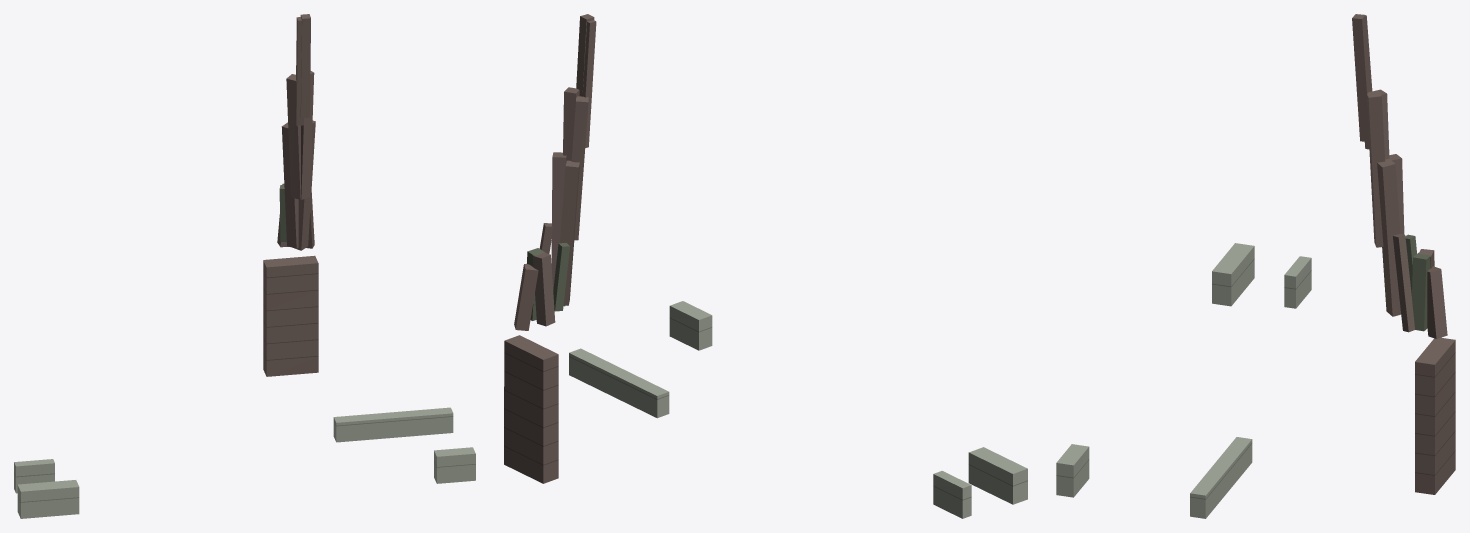
File: terminal-80---20_14.glb
3 renders of one model, left to right at view 1: azimuth 30°, elevation 25°; view 2: azimuth 150°, elevation 25°; view 3: azimuth 270°, elevation 25°, orthographic. The views are drawn at different scales.
Visible parts, largest first — view 1: measured-industrial; view 2: measured-industrial; view 3: measured-industrial.
Boxes of the visible parts, bbox=[...] form: measured-industrial: bbox=[14, 14, 475, 518]; measured-industrial: bbox=[504, 14, 1027, 518]; measured-industrial: bbox=[1056, 14, 1455, 518].
Bounding box in the file's own units: 72.82 × 63.9 × 50.71.
